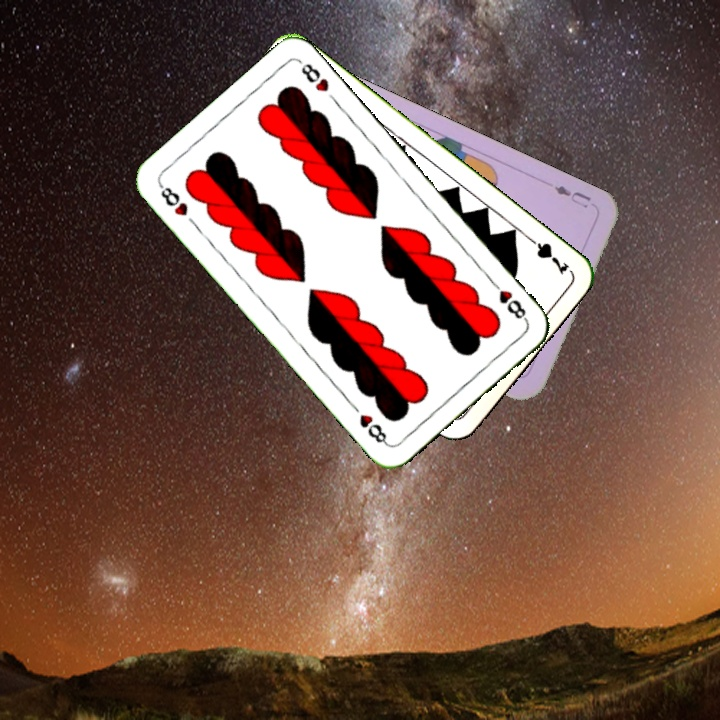EU: (550, 181, 594, 211)
G7: (522, 231, 572, 278)
H8: (486, 276, 531, 324), (155, 180, 191, 219)
